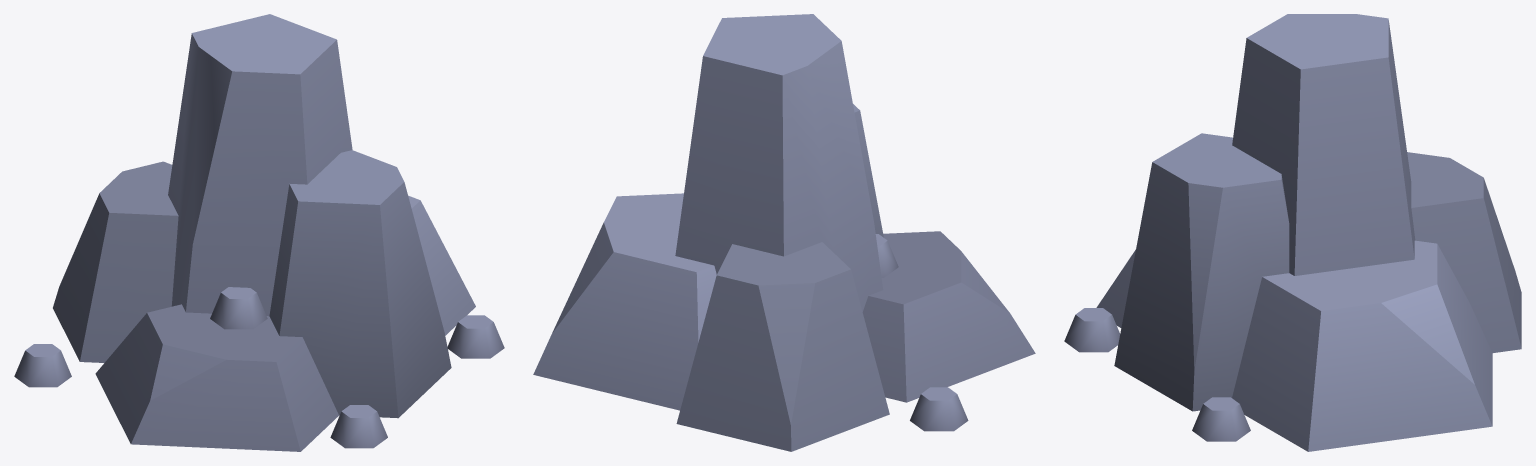
The model's file is T_rock-large.glb.
3 views of the same model, side by side, from view 1: azimuth 30°, elevation 25°; view 2: azimuth 150°, elevation 25°; view 3: azimuth 270°, elevation 25° (orthographic). The views are drawn at different scales.
Visible parts, largest first — view 1: rock-large; view 2: rock-large; view 3: rock-large.
Part boxes in pixels (<box>): rock-large: <box>14,14,504,451</box>; rock-large: <box>533,14,1035,451</box>; rock-large: <box>1064,14,1521,451</box>.
Size of the model in its own units: 1.67 by 1.16 by 1.55.
